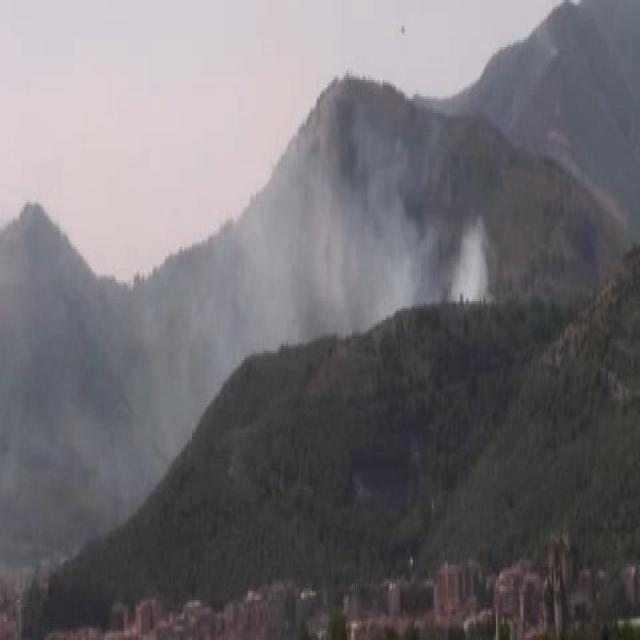smoke: (220, 123, 488, 340), (34, 309, 157, 492)
